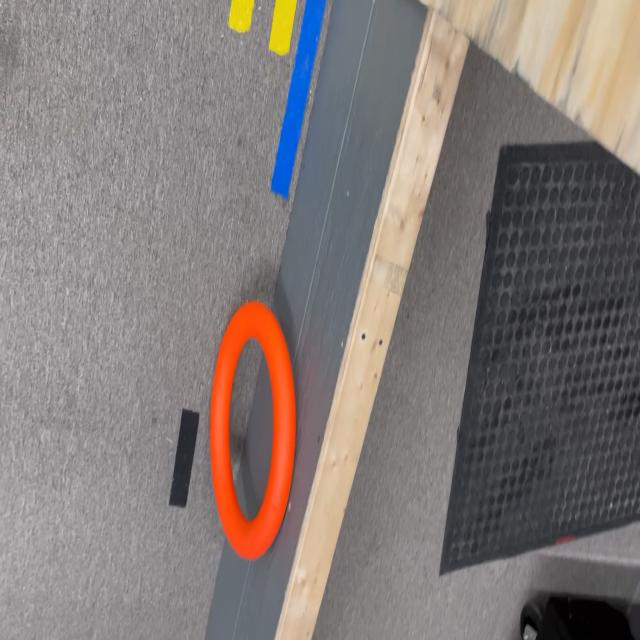note: (208, 302, 298, 557)
